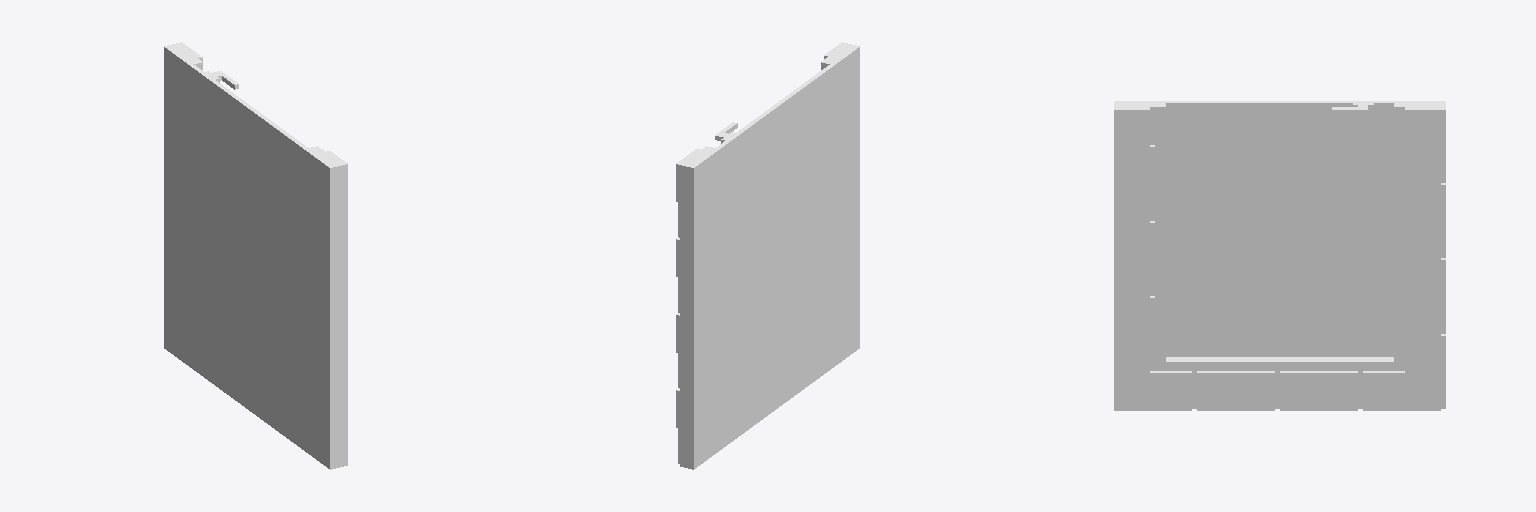
The model's file is dive_bar_door_b.obj.
3 renders of one model, left to right at view 1: azimuth 30°, elevation 25°; view 2: azimuth 150°, elevation 25°; view 3: azimuth 270°, elevation 25°, orthographic.
Bounding box in the file's own units: 4 × 64 × 64.